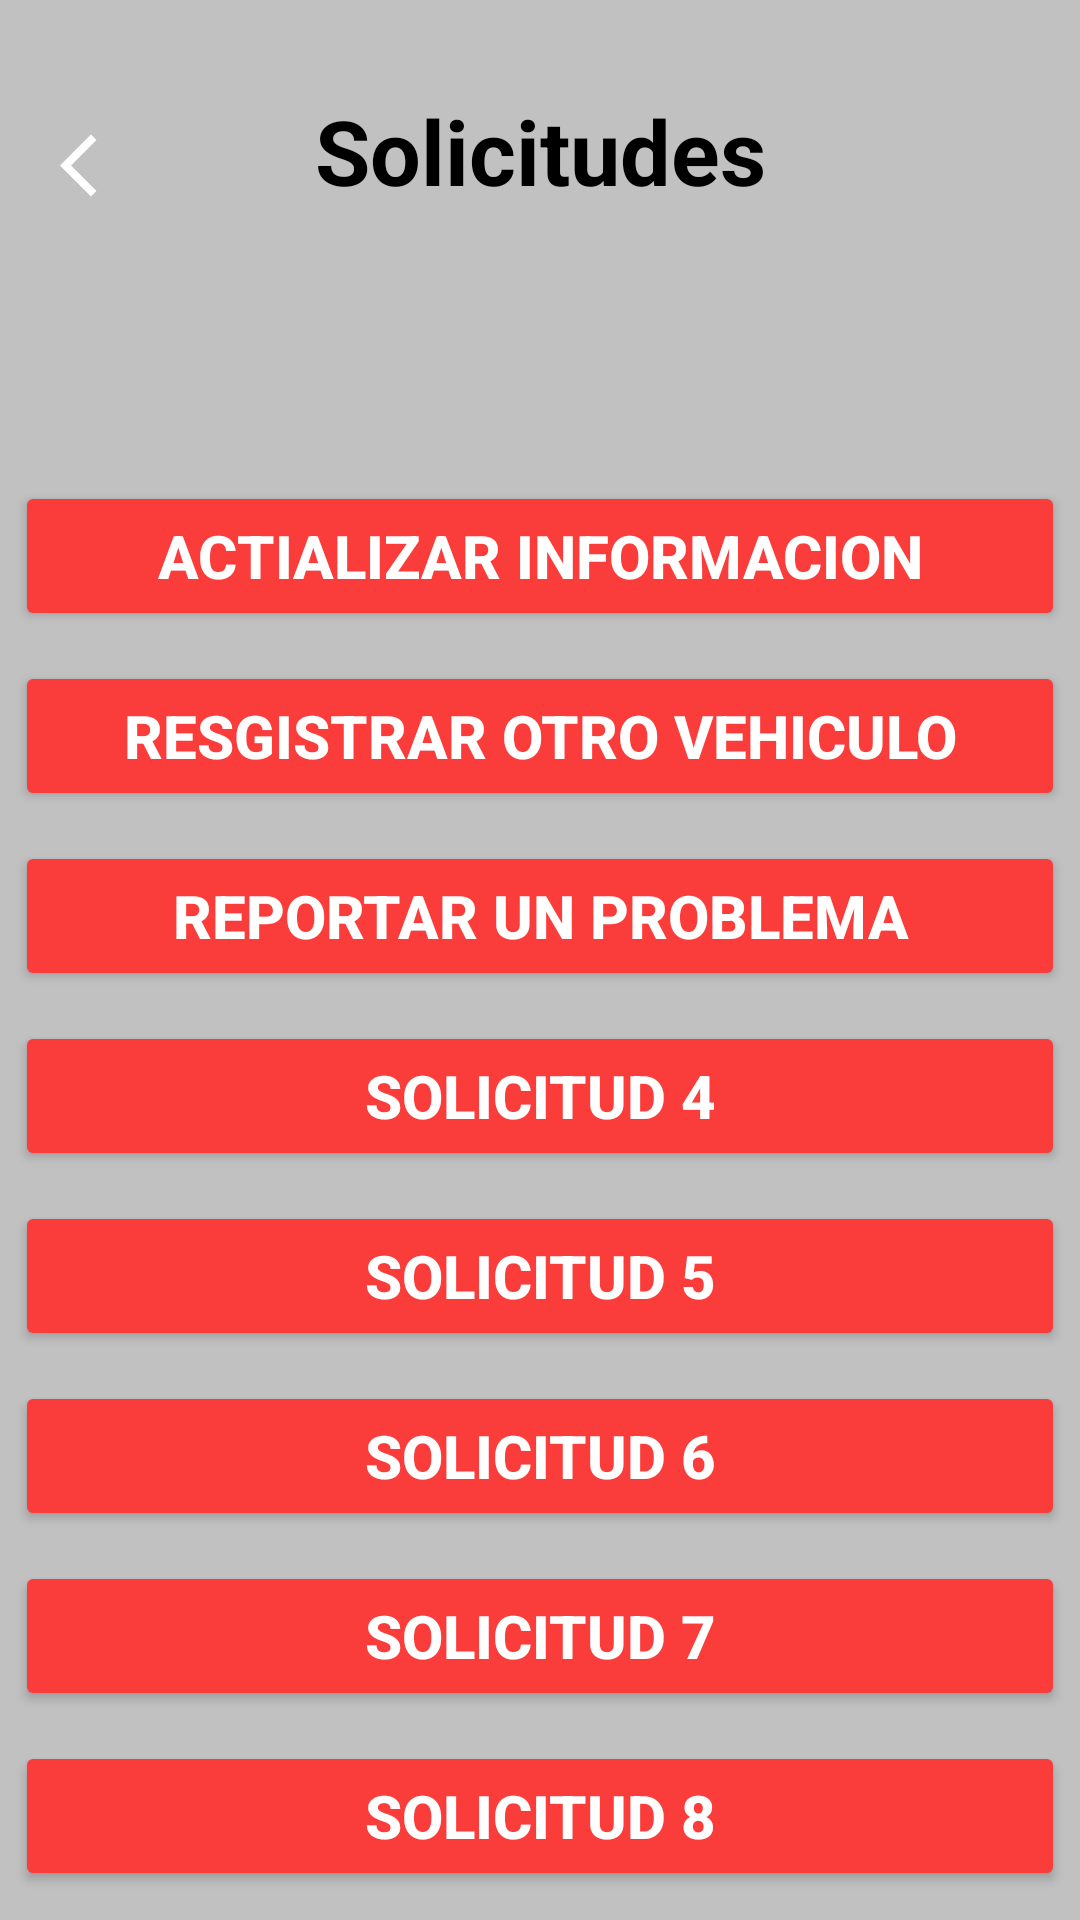

Screen size 1080 x 1920. Icon name, then its box in pixels as (x1, y1, x2, y2):
arrow back: (60, 135, 96, 196)
